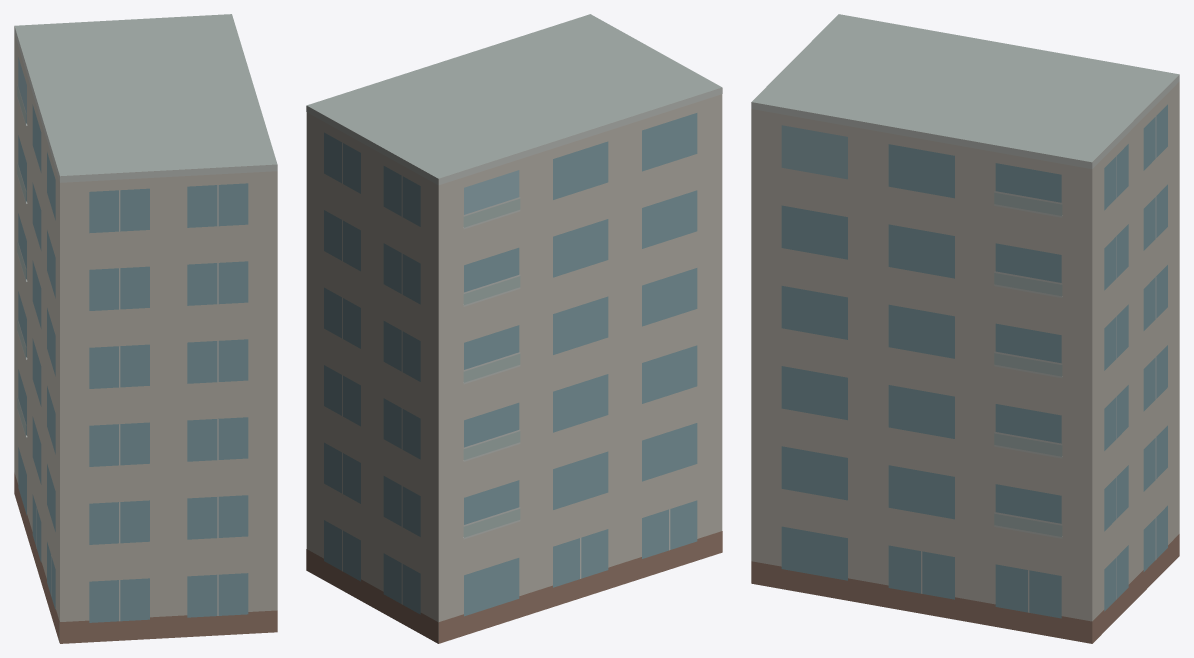
File: survey-upis-32525260.glb
The picture shows the model from 3 angles, left to right: view 1: azimuth 30°, elevation 25°; view 2: azimuth 150°, elevation 25°; view 3: azimuth 270°, elevation 25°; orthographic projection. The views are drawn at different scales.
Visible parts, largest first — view 1: survey-upis-32525260.tmp; view 2: survey-upis-32525260.tmp; view 3: survey-upis-32525260.tmp.
Part boxes in pixels (x1=…): survey-upis-32525260.tmp: x1=14, y1=14, x2=277, y2=643; survey-upis-32525260.tmp: x1=306, y1=14, x2=722, y2=643; survey-upis-32525260.tmp: x1=751, y1=14, x2=1179, y2=643.
Size of the model in its own units: 11.28 by 17.06 by 13.76.
